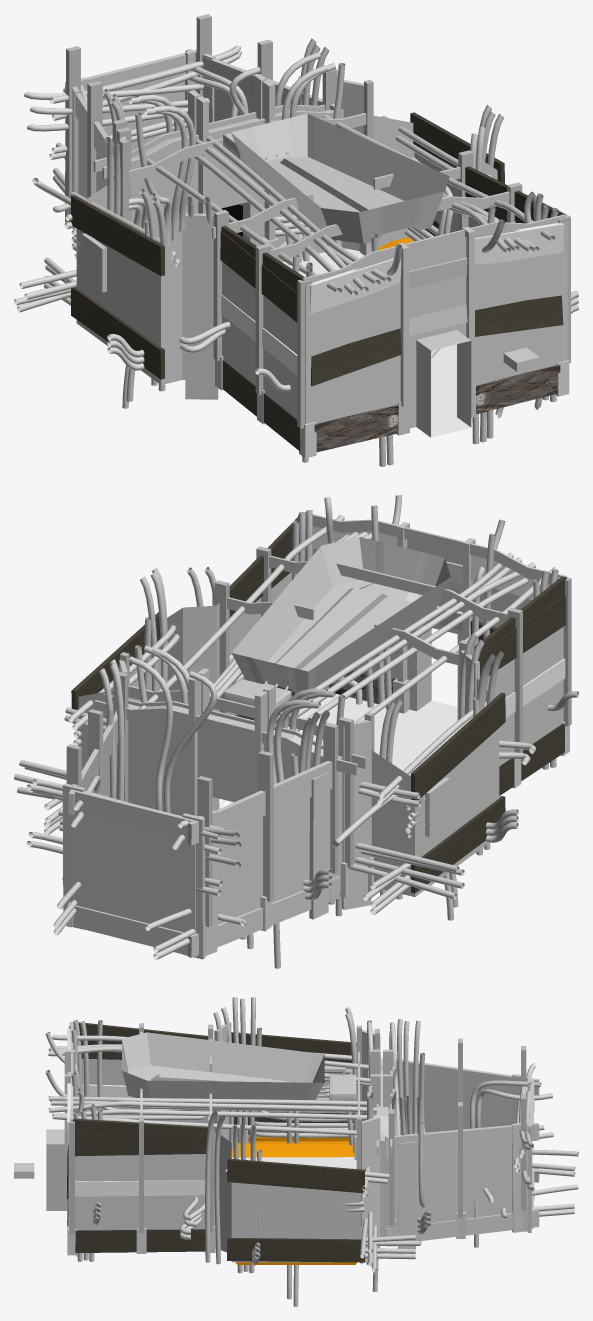
The model's file is Main Room Size Composition Test.fbx.
3 renders of one model, top to bottom at view 1: azimuth 30°, elevation 25°; view 2: azimuth 150°, elevation 25°; view 3: azimuth 270°, elevation 25°, orthographic. The views are drawn at different scales.
Parts seen in each view (by area): view 1: 02 MR Main Wall Base, Plane.001, Cube.010, Cube.001, Cube.013, Cube.008, Cube.022, 03 MR Ceiling.001, Cube.009, 04 Delivery Room Walls, Cube.025, 01 MR Floor (+36 smaller); view 2: 02 MR Main Wall Base, Plane.001, 04 Delivery Room Walls, 03 MR Ceiling.001, Cube.022, Cube.025, Cube.031, 01 MR Floor, Cube.001, Cube.014, Cube.003, Cube.026 (+38 smaller); view 3: 02 MR Main Wall Base, Plane.001, Cube.022, Cube.031, Cube.021, 01 MR Floor, Cube.004, Cube.002, Cube.005, Cube.003, Cube.014, Cube.033 (+35 smaller).
Part boxes in pixels (<box>): 02 MR Main Wall Base: <box>76,81,567,437</box>; Plane.001: <box>231,113,449,243</box>; Cube.010: <box>311,295,563,386</box>; Cube.001: <box>213,150,570,428</box>; Cube.013: <box>185,213,218,399</box>; Cube.008: <box>314,364,560,452</box>; Cube.022: <box>70,112,504,275</box>; 03 MR Ceiling.001: <box>212,167,565,282</box>; Cube.009: <box>310,223,563,313</box>; 04 Delivery Room Walls: <box>131,109,341,262</box>; Cube.025: <box>66,14,272,197</box>; 01 MR Floor: <box>221,204,470,437</box>; 02 MR Main Wall Base: <box>72,539,563,933</box>; Plane.001: <box>231,537,450,693</box>; 04 Delivery Room Walls: <box>128,704,342,882</box>; 03 MR Ceiling.001: <box>212,512,566,665</box>; Cube.022: <box>71,612,505,800</box>; Cube.025: <box>66,709,273,926</box>; Cube.031: <box>68,710,340,845</box>; 01 MR Floor: <box>219,694,457,808</box>; Cube.001: <box>214,514,571,752</box>; Cube.014: <box>119,660,371,909</box>; Cube.003: <box>229,514,566,651</box>; Cube.026: <box>70,789,196,840</box>; 02 MR Main Wall Base: <box>14,1026,532,1262</box>; Plane.001: <box>122,1032,324,1105</box>; Cube.022: <box>227,1032,365,1193</box>; Cube.031: <box>385,1059,539,1158</box>; Cube.021: <box>227,1112,364,1262</box>; 01 MR Floor: <box>231,1136,356,1264</box>; Cube.004: <box>75,1051,207,1156</box>; Cube.002: <box>75,1229,205,1252</box>; Cube.005: <box>75,1084,205,1196</box>; Cube.003: <box>73,1022,207,1133</box>; Cube.014: <box>360,1029,380,1263</box>; Cube.033: <box>398,1081,415,1249</box>.
Bounding box in the file's own units: 1961 × 1232 × 2807.
